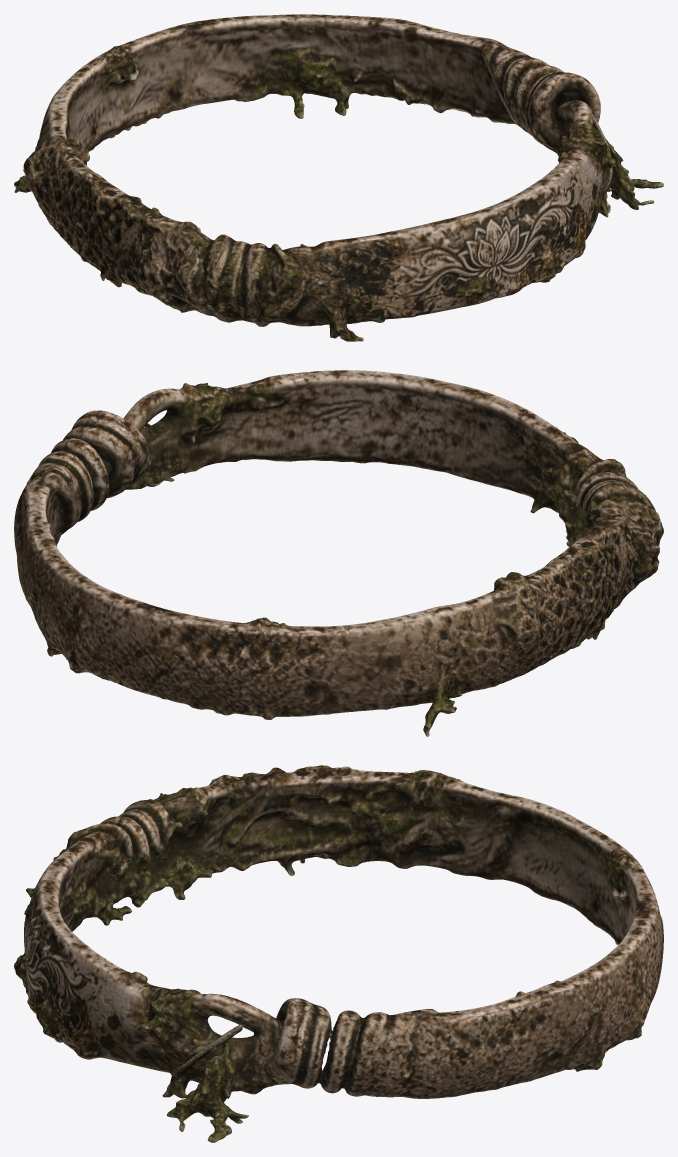
Rendered from Meshy_AI_Forgotten_Vow_Bracele_1012095444_texture.fbx.
The picture shows the model from 3 angles, top to bottom: view 1: azimuth 30°, elevation 25°; view 2: azimuth 150°, elevation 25°; view 3: azimuth 270°, elevation 25°; orthographic projection. The views are drawn at different scales.
Visible parts, largest first — view 1: Mesh_0; view 2: Mesh_0; view 3: Mesh_0.
Boxes of the visible parts, x1,y1,x2,y2 form: Mesh_0: [14, 14, 663, 341]; Mesh_0: [14, 370, 663, 736]; Mesh_0: [14, 765, 663, 1142].
Bounding box in the file's own units: 188 × 36.63 × 182.
1 material, 1 textured.
